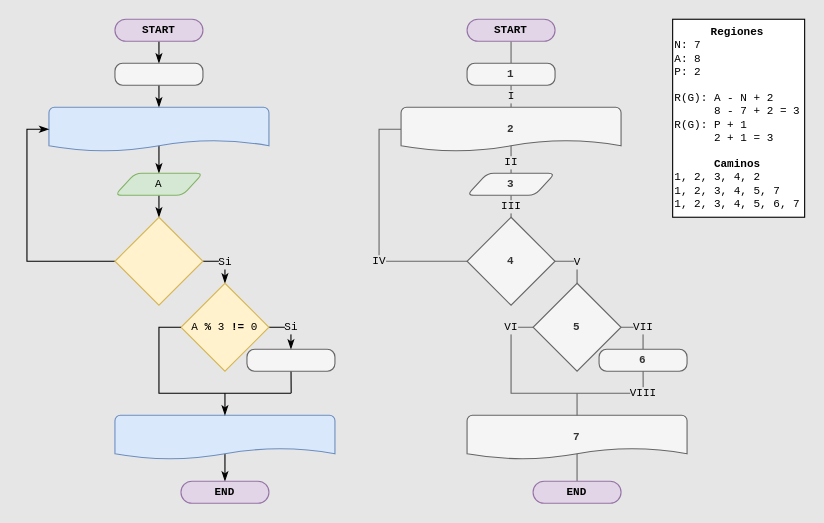
Some shapes in this 824 by 523 pixel diagram are drawn without their labels. The box of each missing label's shape, as (x1, y1, x2, y2) in pixels:
"Ingrese un número natural": (48, 106, 269, 151)
A > 0: (114, 216, 203, 305)
A, M, "es múltiplo de 3.": (114, 414, 335, 459)
M = "": (114, 62, 203, 85)
M = "no ": (246, 348, 335, 371)
